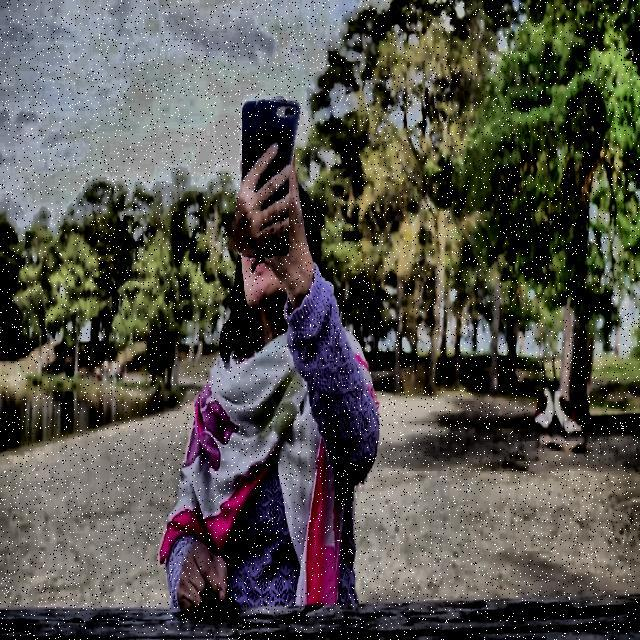Phone: (234, 95, 296, 258)
